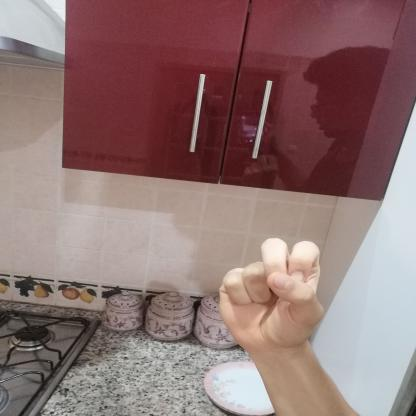QAAF: (203, 230, 340, 362)
